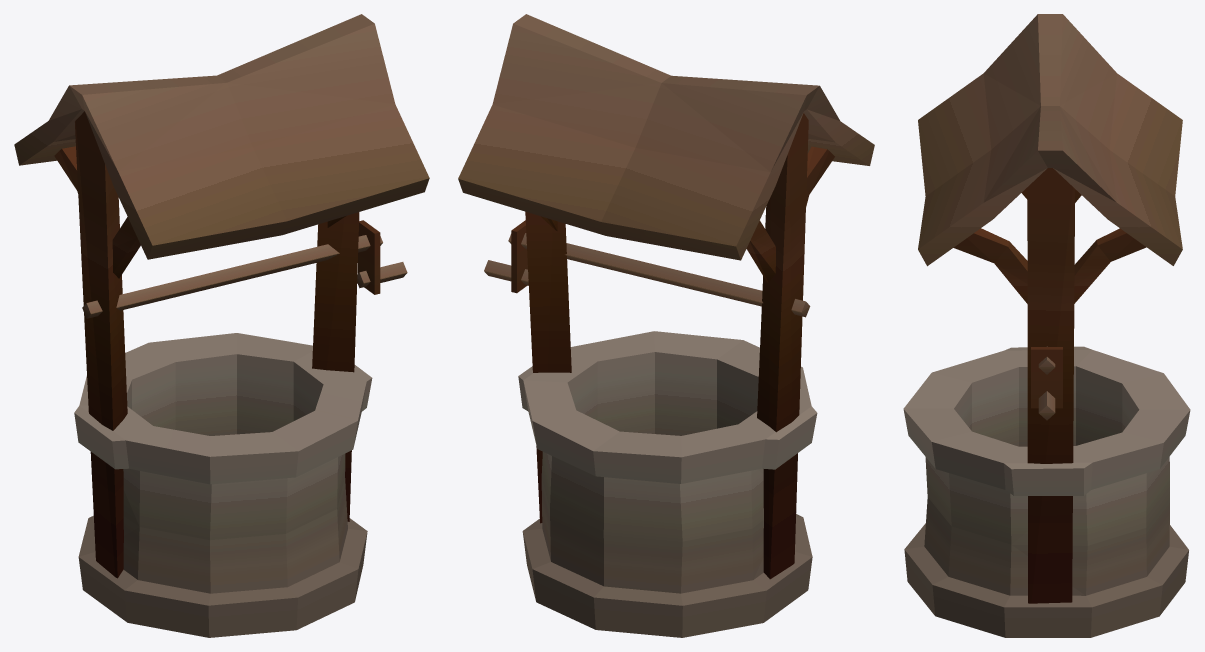
Rendered from well.glb.
3 views of the same model, side by side, from view 1: azimuth 30°, elevation 25°; view 2: azimuth 150°, elevation 25°; view 3: azimuth 270°, elevation 25° (orthographic). The views are drawn at different scales.
Parts seen in each view (by area): view 1: waterwell; view 2: waterwell; view 3: waterwell.
Boxes of the visible parts, x1,y1,x2,y2 form: waterwell: [14, 14, 429, 637]; waterwell: [458, 14, 874, 637]; waterwell: [903, 14, 1190, 637].
Bounding box in the file's own units: 4.13 × 6.34 × 3.29.
Materials: 1 (1 with a texture image).
